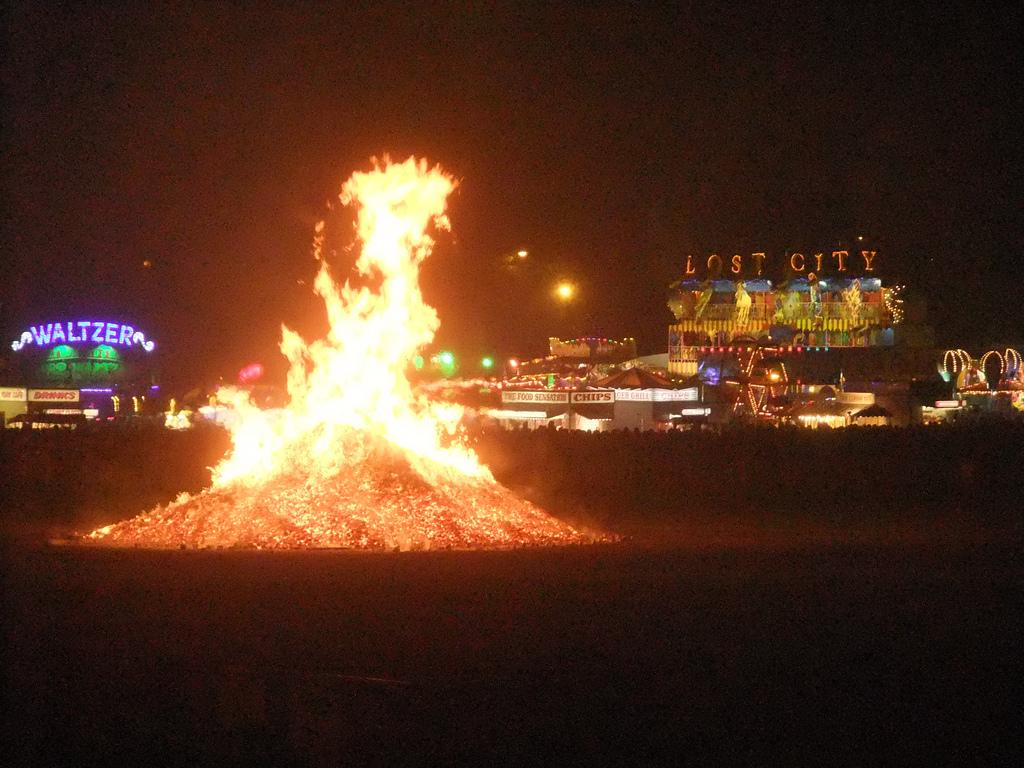fire: (314, 300, 426, 456), (344, 152, 446, 266), (206, 390, 302, 470)
